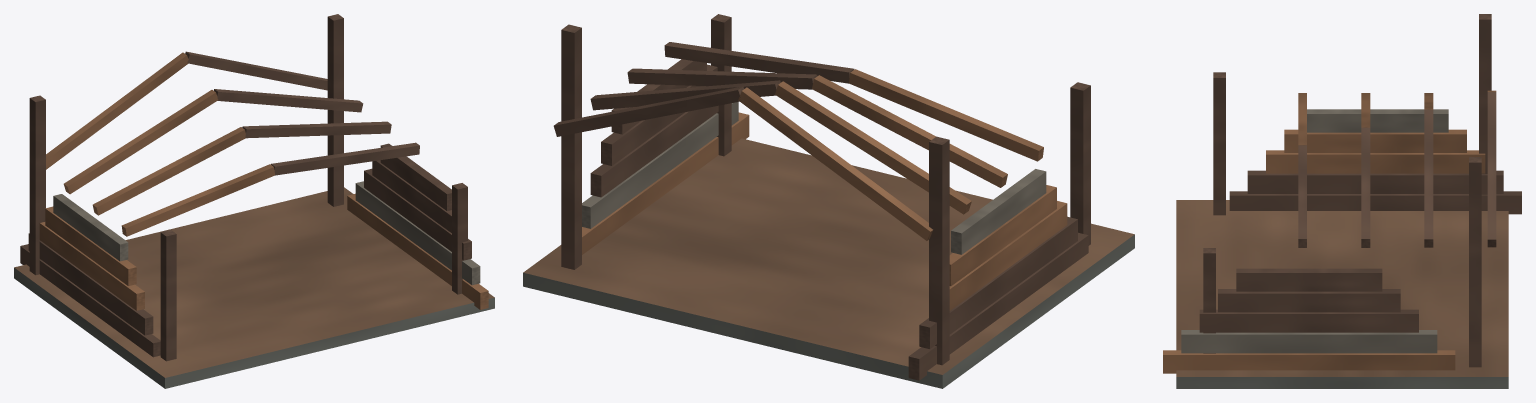
File: cabin_ruined.fbx
3 views of the same model, side by side, from view 1: azimuth 30°, elevation 25°; view 2: azimuth 150°, elevation 25°; view 3: azimuth 270°, elevation 25° (orthographic). The views are drawn at different scales.
Parts seen in each view (by area): view 1: cabin_ruined; view 2: cabin_ruined; view 3: cabin_ruined.
Part boxes in pixels (x1,y1,x2,y2): cabin_ruined: (14, 14, 494, 388); cabin_ruined: (523, 14, 1134, 388); cabin_ruined: (1163, 14, 1521, 388).
Size of the model in its own units: 700 by 400 by 600.
1 material, 1 textured.
